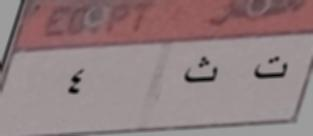4: (68, 61, 85, 101)
taa: (250, 52, 290, 85)
thaa: (180, 53, 222, 90)
